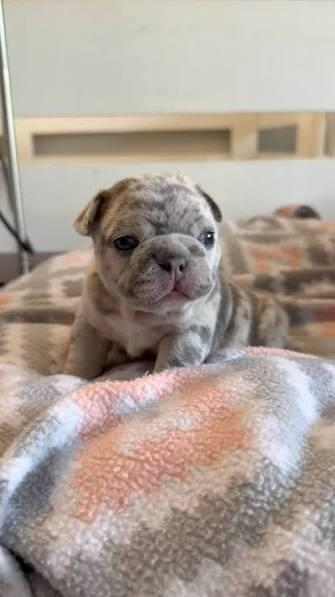puppy-dog: (64, 171, 292, 381)
